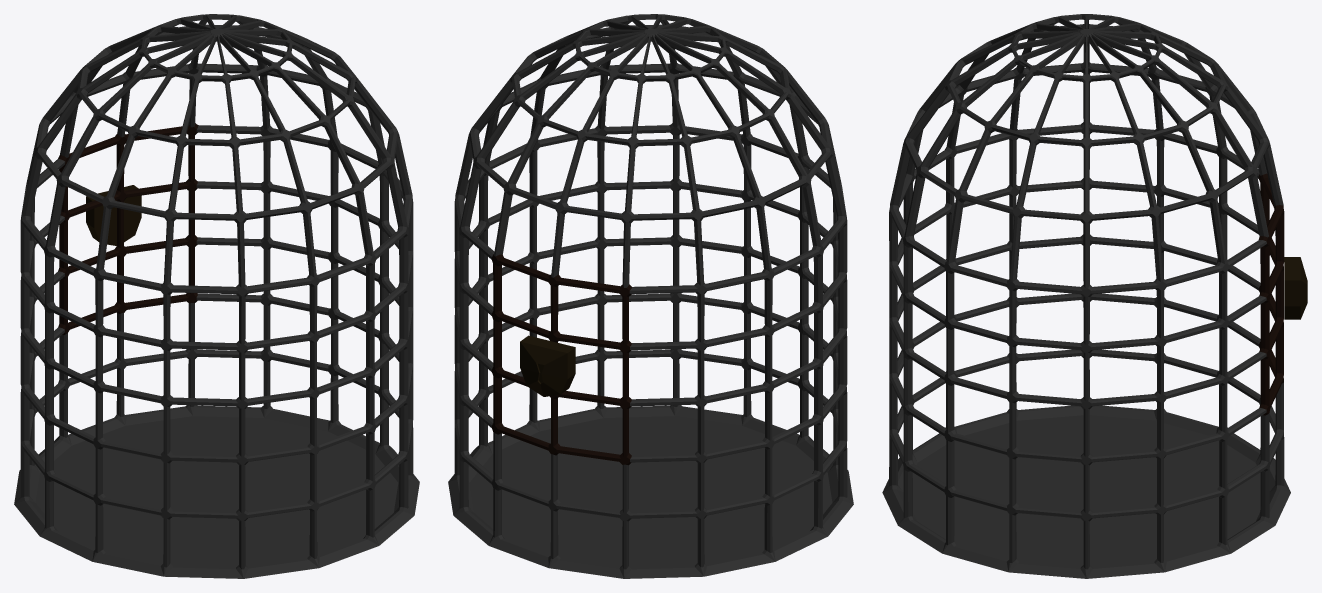
Rendered from Quick_Cage.obj.
3 renders of one model, left to right at view 1: azimuth 30°, elevation 25°; view 2: azimuth 150°, elevation 25°; view 3: azimuth 270°, elevation 25°, orthographic.
Visible parts, largest first — view 1: Cage, CageDoor, CageDoor.001; view 2: Cage, CageDoor, CageDoor.001; view 3: Cage, CageDoor, CageDoor.001.
Part boxes in pixels (x1,y1,x2,y2): Cage: (14,14,419,578); CageDoor: (58,123,197,335); CageDoor.001: (86,185,141,245); Cage: (448,14,853,578); CageDoor: (491,254,631,465); CageDoor.001: (520,335,575,396); Cage: (882,14,1290,578); CageDoor: (1258,173,1284,415); CageDoor.001: (1284,257,1307,319).
Bounding box in the file's own units: 1.27 × 1.58 × 1.32.
